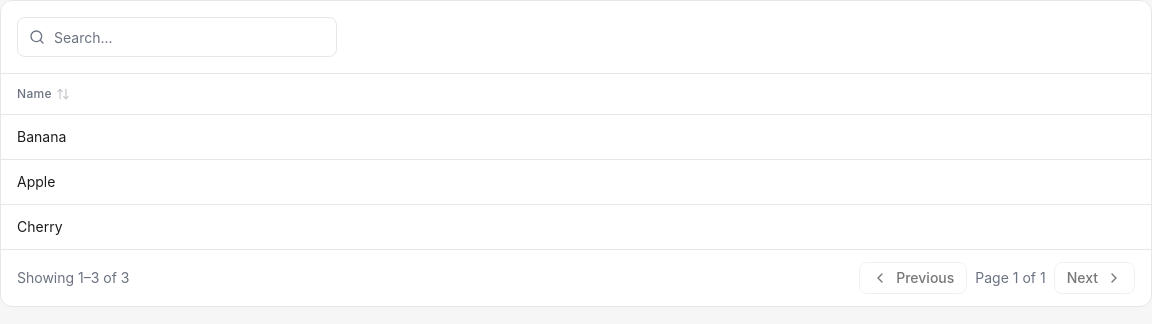
Test: DataTable › filters rows by the search box, client-side
This screenshot has width=1152, height=324.
Step 1. Type "app" into the field named "Search this list" → [177, 37], box x1=17 y1=17 x2=337 y2=57
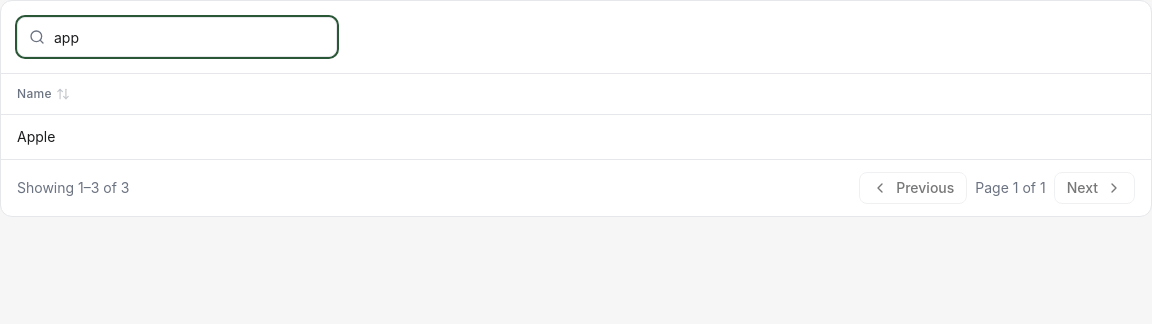
Expected: the text "Apple" is shown, x1=1 y1=114 x2=1151 y2=159
Expected: the text "Banana" is gone
Expected: the text "Cherry" is gone
